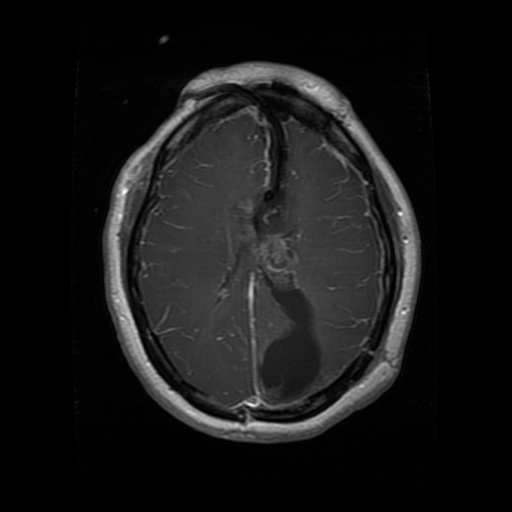glioma: (237, 112, 325, 403)
